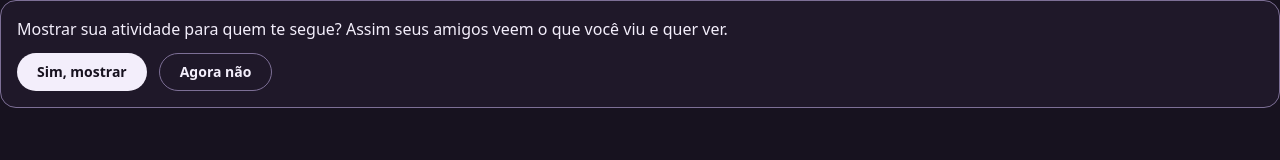
Test: ShareActivityBanner › keeps the question and explains when saving fails
The width and height of the screenshot is (1280, 160).
Click the button "Sim, mostrar" at (82, 72), box [17,53,147,91]
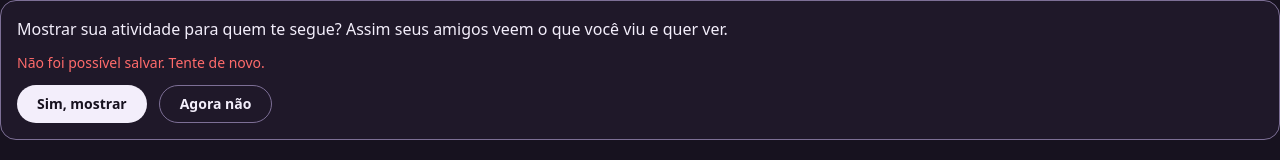
Expected: the text "Mostrar sua atividade para quem te segue? Assim seus amigos veem o que você viu e quer ver." is shown, [17,18,728,40]
Result: the message reads "Não foi possível salvar. Tente de novo." at [17,53,265,72]
